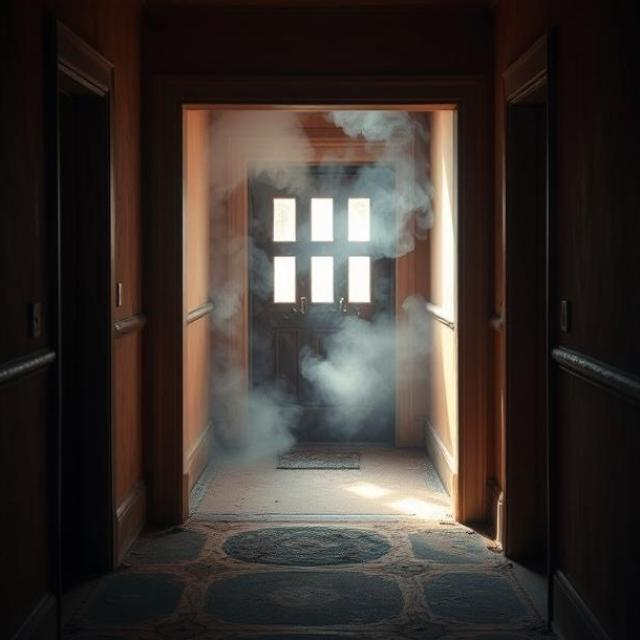fire: (193, 109, 444, 472)
